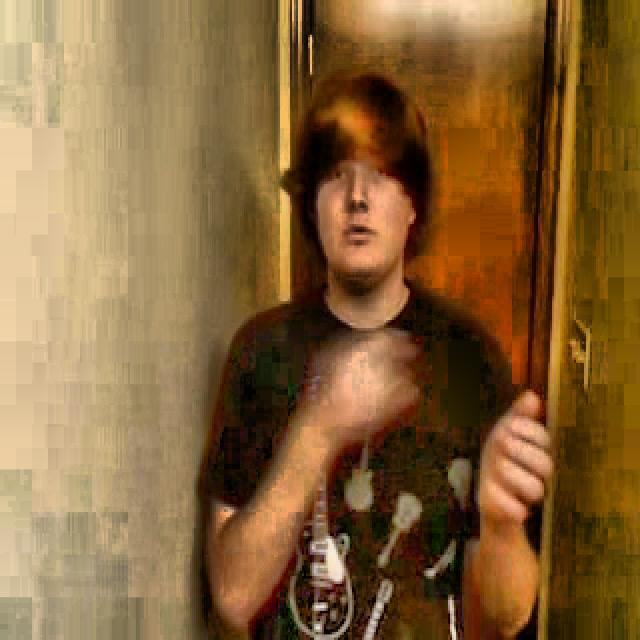F: (192, 90, 530, 640)
